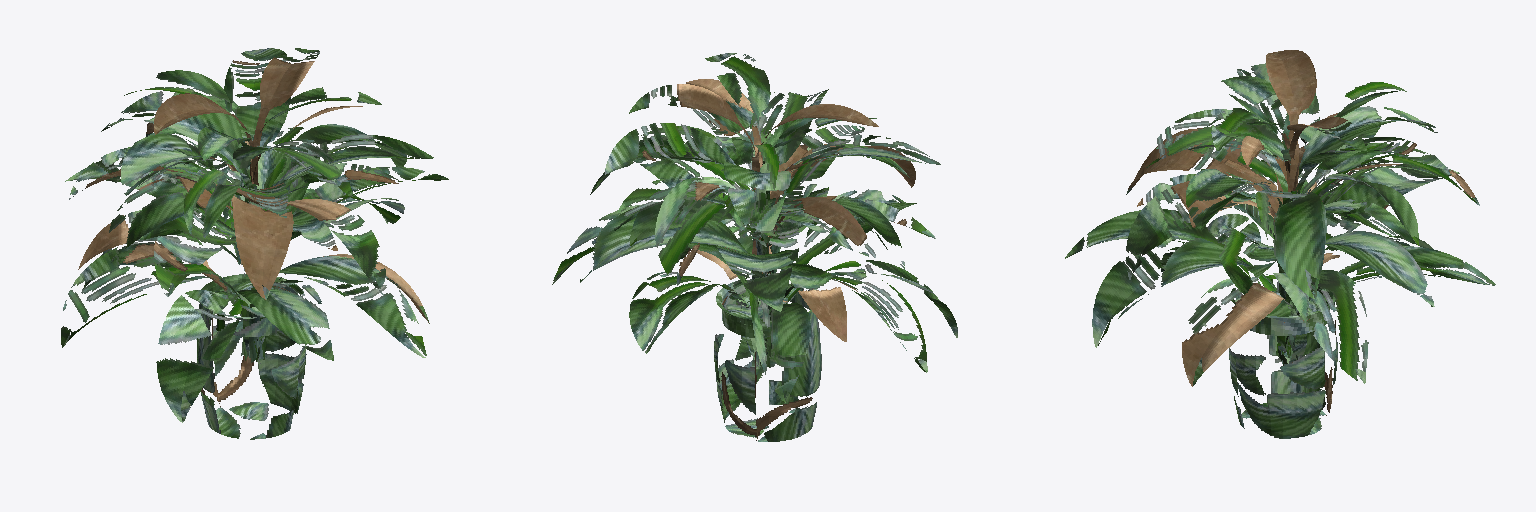
The picture shows the model from 3 angles: view 1: azimuth 30°, elevation 25°; view 2: azimuth 150°, elevation 25°; view 3: azimuth 270°, elevation 25°; orthographic projection.
Visible parts, largest first — view 1: solid_003, solid_001, solid_002; view 2: solid_003, solid_001; view 3: solid_003, solid_001.
Part boxes in pixels (x1,y1,x2,y2): solid_003: (61, 48, 448, 422); solid_001: (197, 274, 306, 439); solid_002: (211, 282, 289, 316); solid_003: (552, 53, 957, 402); solid_001: (714, 279, 821, 441); solid_003: (1065, 50, 1495, 386); solid_001: (1229, 274, 1337, 438).
Size of the model in its own units: 0.9369 by 0.8394 by 0.9937.
1 materials, 1 textured.